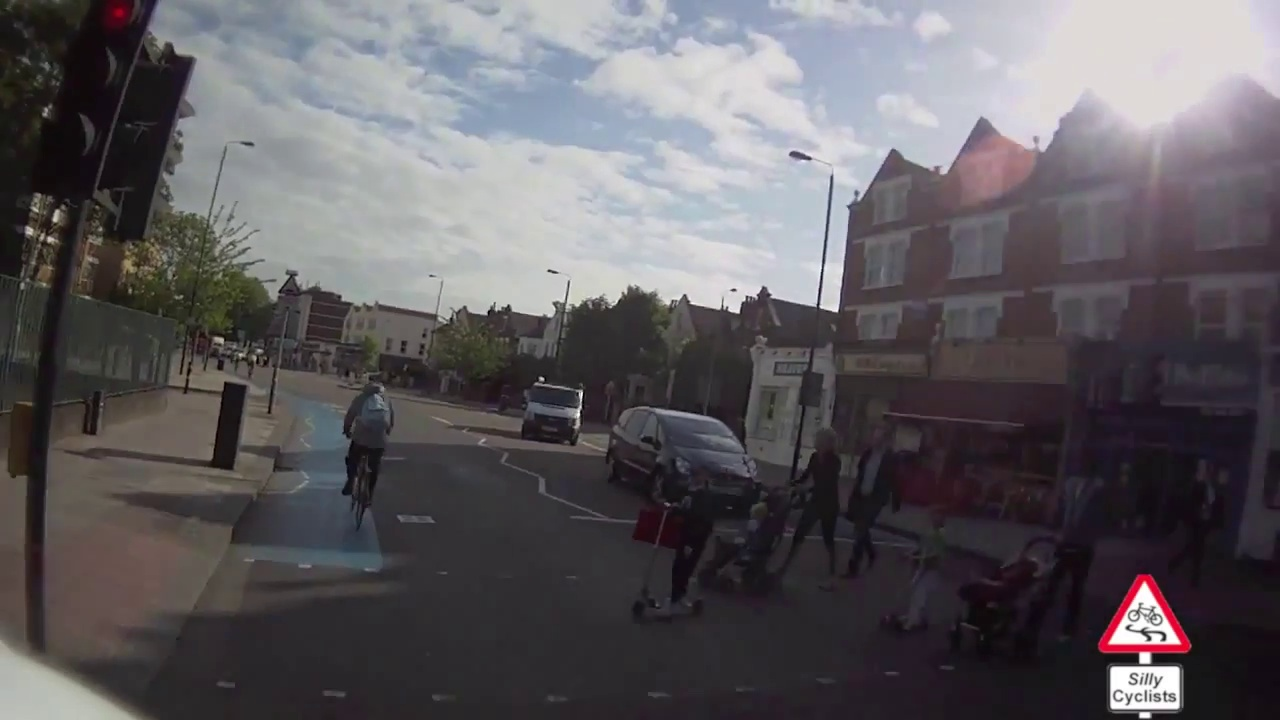cyclist_back: (335, 372, 393, 523)
